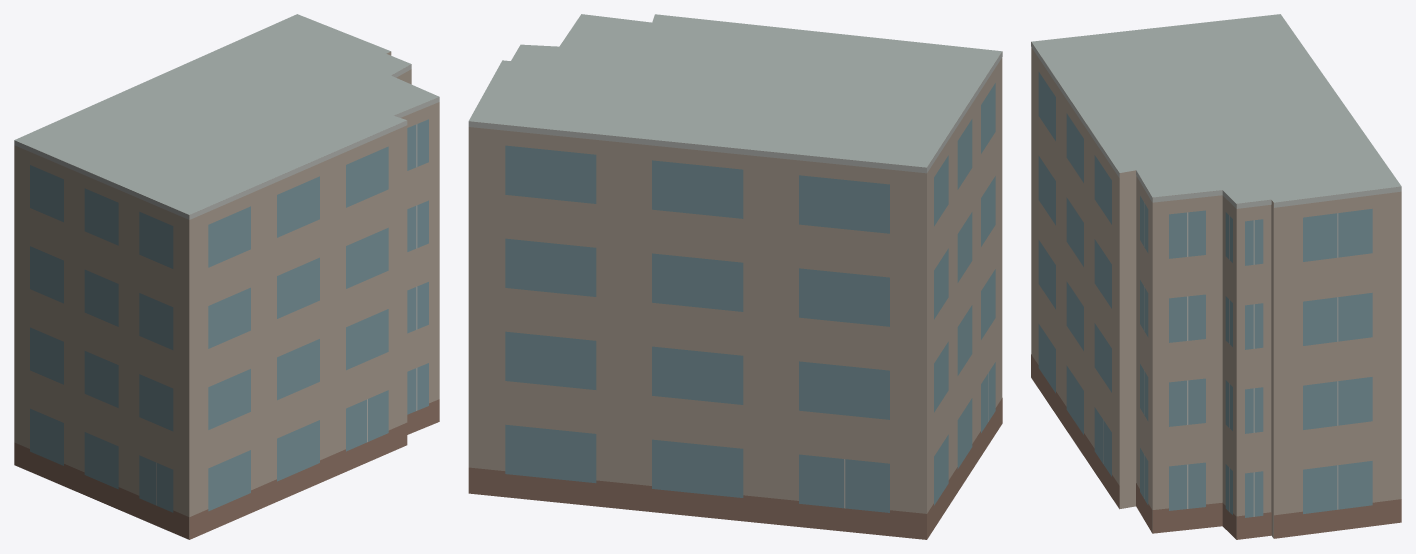
File: survey-upis-32959440.glb
3 renders of one model, left to right at view 1: azimuth 30°, elevation 25°; view 2: azimuth 150°, elevation 25°; view 3: azimuth 270°, elevation 25°, orthographic. The views are drawn at different scales.
Visible parts, largest first — view 1: survey-upis-32959440.tmp; view 2: survey-upis-32959440.tmp; view 3: survey-upis-32959440.tmp.
Part boxes in pixels (x1,y1,x2,y2): survey-upis-32959440.tmp: [14, 14, 439, 539]; survey-upis-32959440.tmp: [468, 14, 1002, 539]; survey-upis-32959440.tmp: [1031, 14, 1401, 539].
Bounding box in the file's own units: 19.21 × 15.85 × 15.84.
